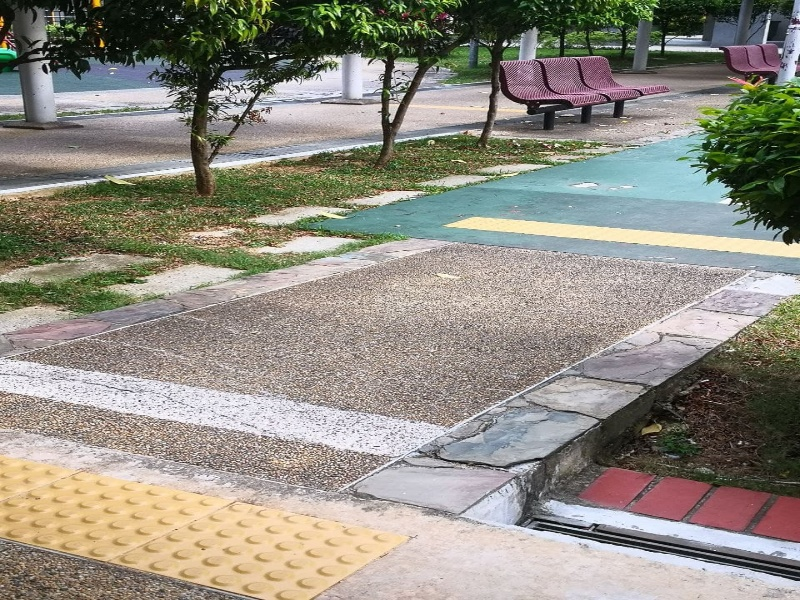slope: (1, 277, 720, 436)
